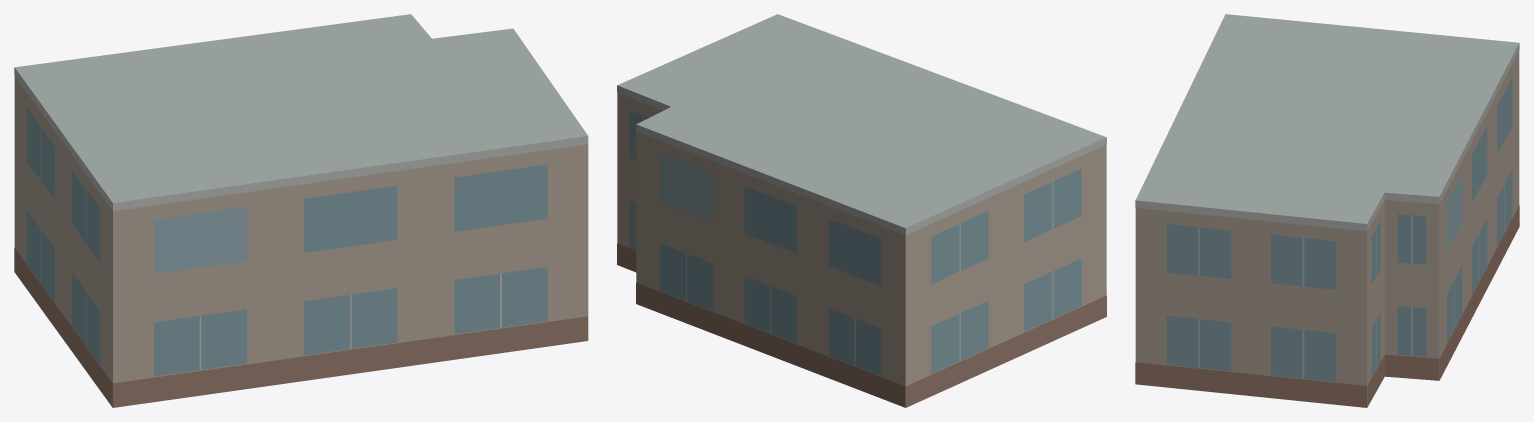
The model's file is survey-upis-32663565.glb.
3 views of the same model, side by side, from view 1: azimuth 30°, elevation 25°; view 2: azimuth 150°, elevation 25°; view 3: azimuth 270°, elevation 25° (orthographic). The views are drawn at different scales.
Visible parts, largest first — view 1: survey-upis-32663565.tmp; view 2: survey-upis-32663565.tmp; view 3: survey-upis-32663565.tmp.
Part boxes in pixels (left/top/right/bottom): survey-upis-32663565.tmp: left=14, top=14, right=588, bottom=407; survey-upis-32663565.tmp: left=617, top=14, right=1106, bottom=407; survey-upis-32663565.tmp: left=1135, top=14, right=1519, bottom=407.
Size of the model in its own units: 14.95 by 6.1 by 11.56.
